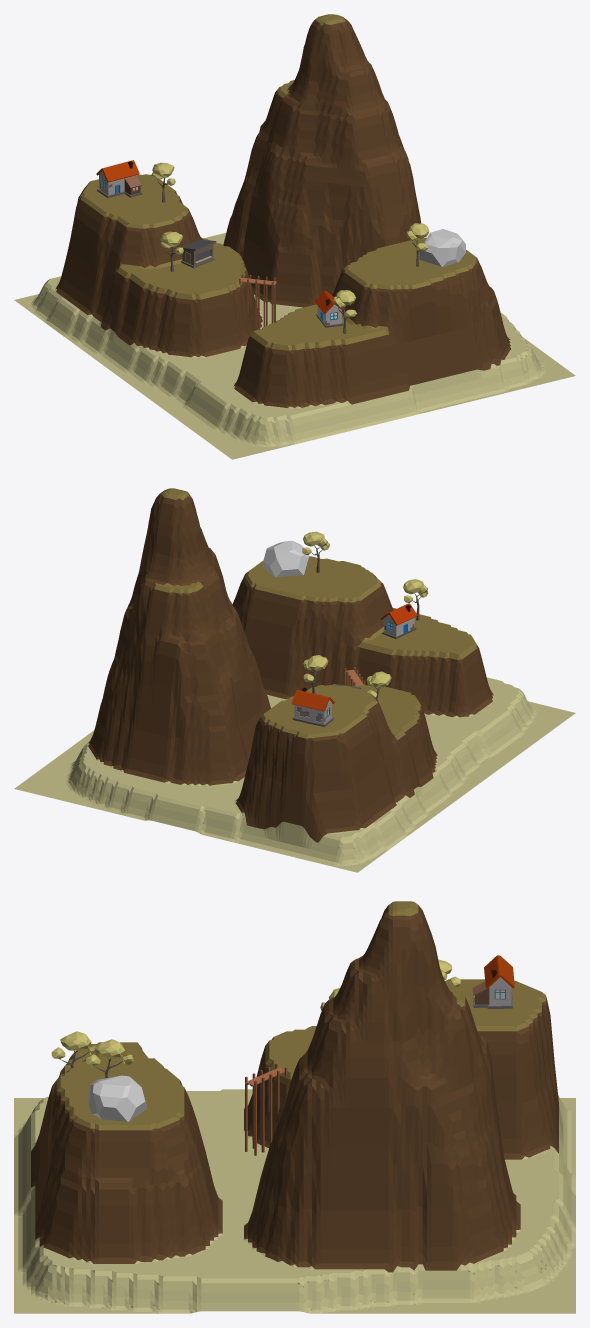
Rendered from WestIsland.fbx.
3 renders of one model, top to bottom at view 1: azimuth 30°, elevation 25°; view 2: azimuth 150°, elevation 25°; view 3: azimuth 270°, elevation 25°, orthographic. The views are drawn at different scales.
Parts seen in each view (by area): view 1: Plane.003; view 2: Plane.003; view 3: Plane.003.
Boxes of the visible parts, x1,y1,x2,y2 form: Plane.003: (14, 14, 575, 459); Plane.003: (14, 488, 575, 872); Plane.003: (14, 901, 575, 1313).
Bounding box in the file's own units: 9375 × 7056 × 10312.
